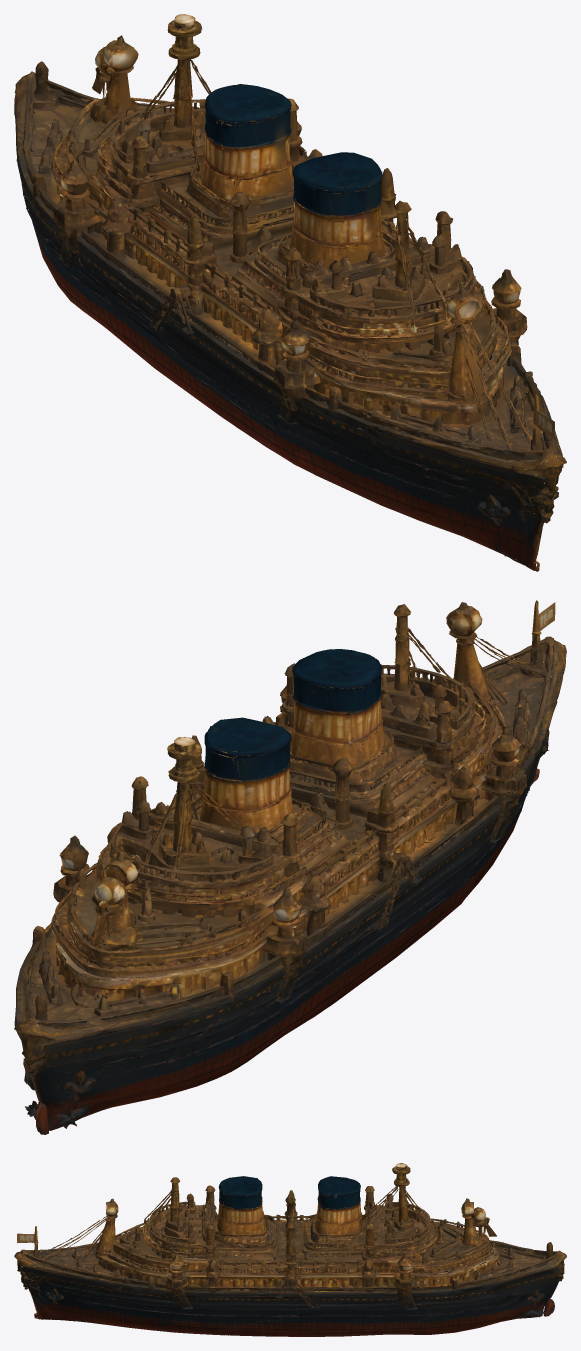
The model's file is passenger_ship.glb.
3 views of the same model, one above another, from view 1: azimuth 30°, elevation 25°; view 2: azimuth 150°, elevation 25°; view 3: azimuth 270°, elevation 25° (orthographic). The views are drawn at different scales.
Parts seen in each view (by area): view 1: material; view 2: material; view 3: material.
Boxes of the visible parts, x1,y1,x2,y2 form: material: (14,14,566,571); material: (14,600,566,1134); material: (14,1163,566,1336).
Bounding box in the file's own units: 0.317 × 0.3691 × 1.2.
Materials: 1 (1 with a texture image).
